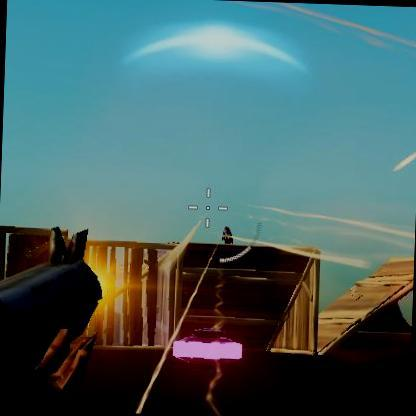person: (222, 228, 236, 244)
